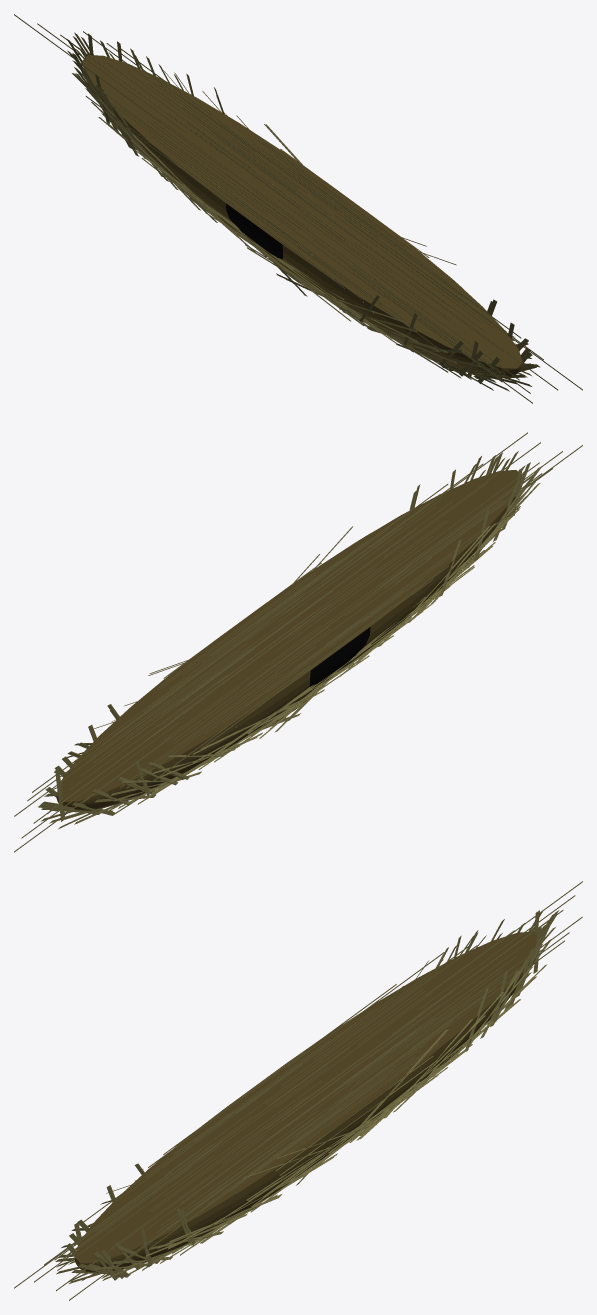
File: cabana.obj
The picture shows the model from 3 angles, top to bottom: view 1: azimuth 30°, elevation 25°; view 2: azimuth 150°, elevation 25°; view 3: azimuth 330°, elevation 25°; orthographic projection. The views are drawn at different scales.
Parts seen in each view (by area): view 1: Cloner.1; view 2: Cloner.1; view 3: Cloner.1.
Part boxes in pixels (x1,y1,x2,y2): Cloner.1: (14, 14, 582, 403); Cloner.1: (14, 432, 582, 852); Cloner.1: (14, 881, 582, 1300).
Bounding box in the file's own units: 73.41 × 70.86 × 691.
